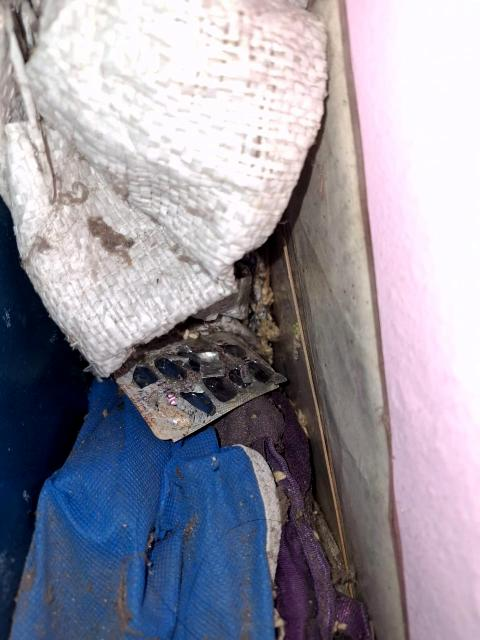medicine: (120, 300, 301, 449)
